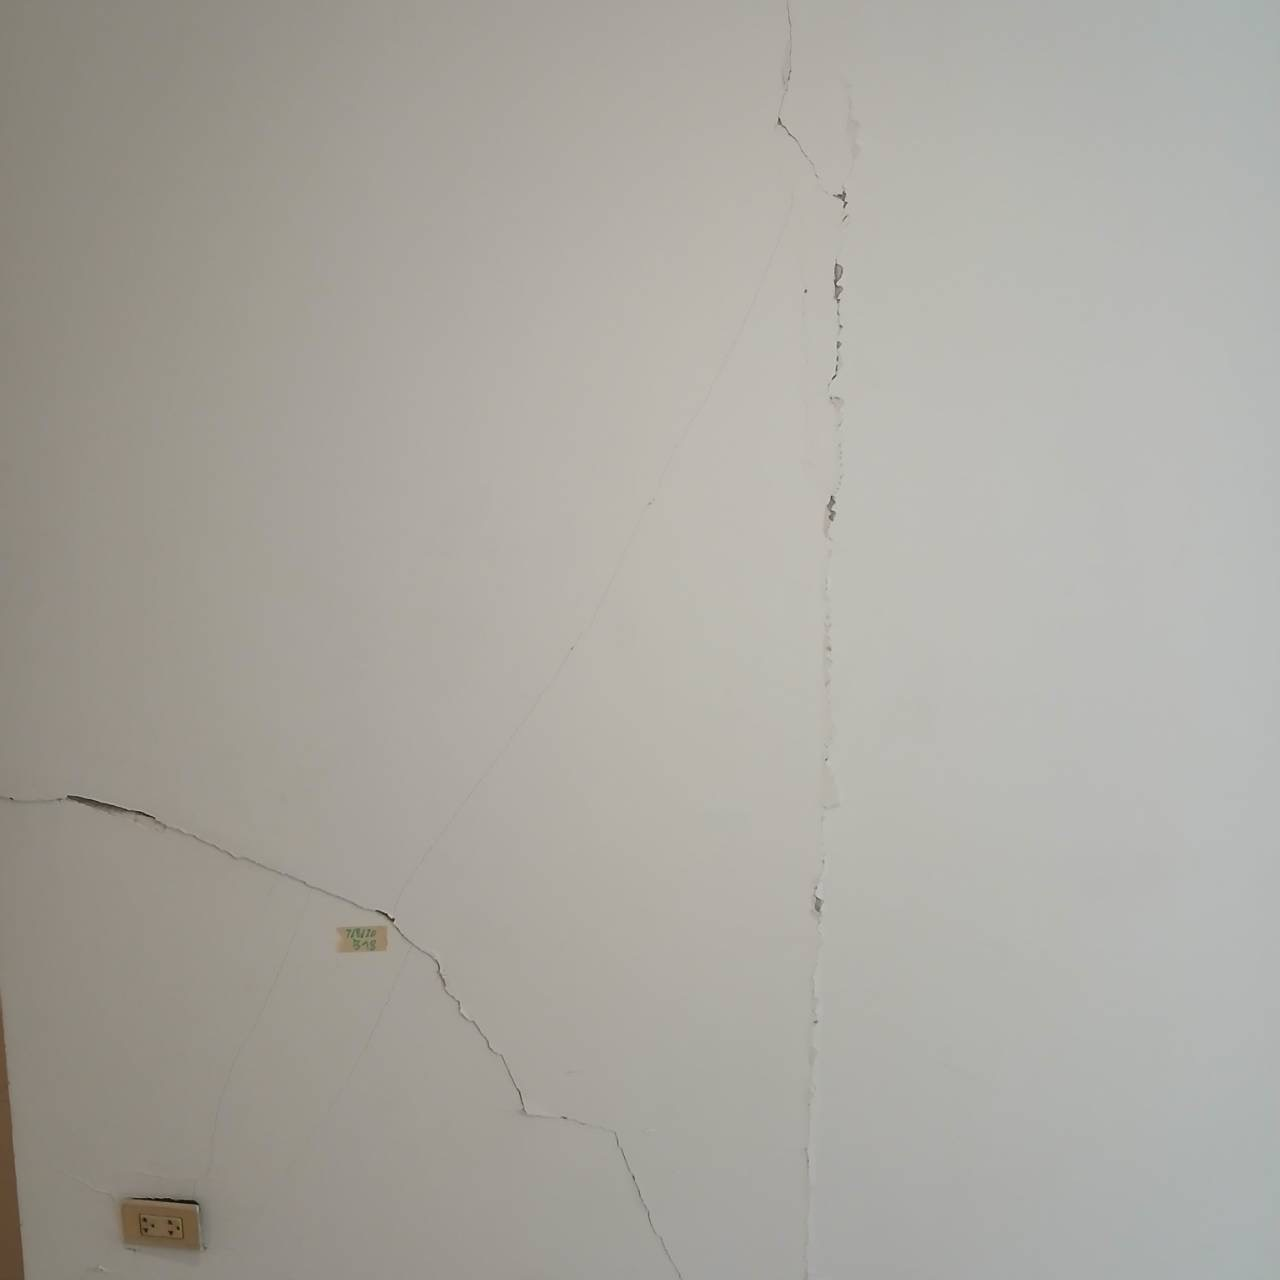Low: (1, 4, 881, 1272)
